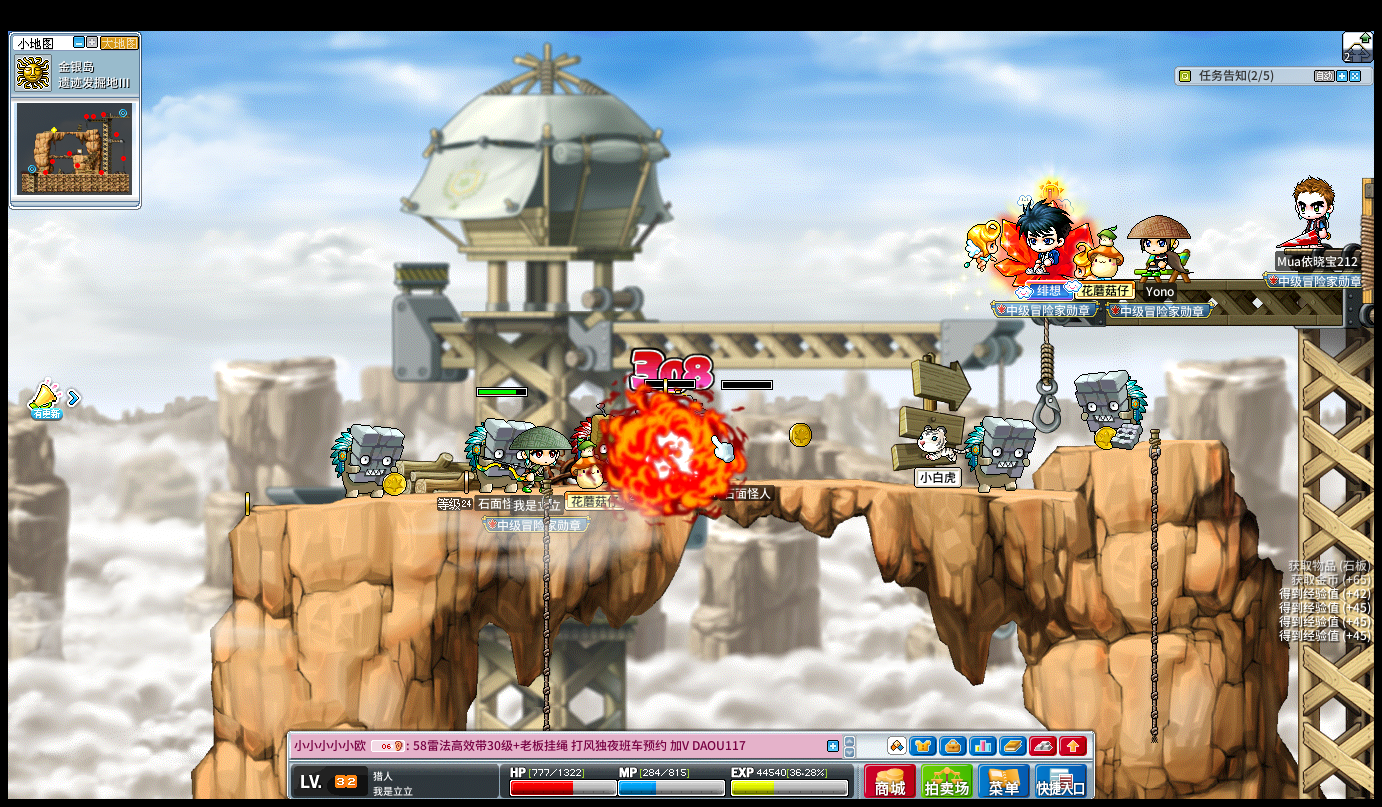floor: (222, 480, 1158, 498), (231, 477, 1116, 494), (1057, 435, 1224, 452), (1121, 435, 1225, 451)
monster: (1074, 370, 1149, 450), (329, 423, 404, 500), (964, 415, 1035, 492), (464, 419, 518, 493)
rope: (1145, 424, 1161, 747), (539, 483, 551, 687), (1041, 319, 1052, 409)
